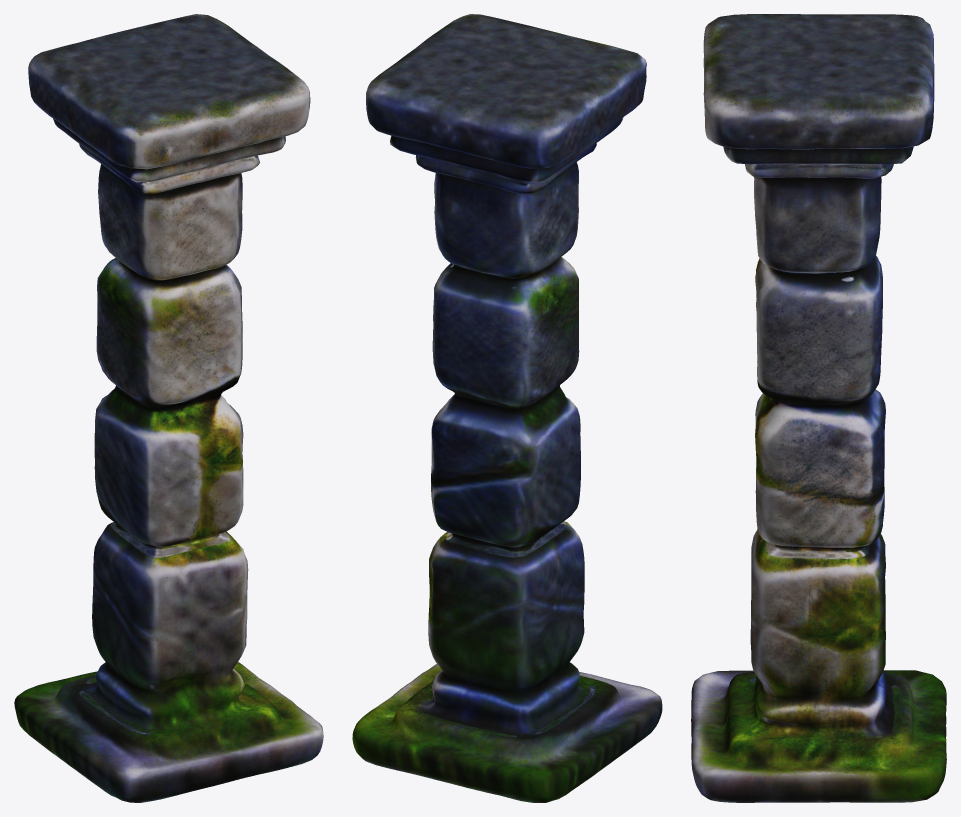
File: 30148d44c764_stylized_low_polygo.fbx
The picture shows the model from 3 angles, left to right: view 1: azimuth 30°, elevation 25°; view 2: azimuth 150°, elevation 25°; view 3: azimuth 270°, elevation 25°; orthographic projection. The views are drawn at different scales.
Visible parts, largest first — view 1: mesh; view 2: mesh; view 3: mesh.
Part boxes in pixels (x1,y1,x2,y2): mesh: (14,14,323,802); mesh: (352,14,662,802); mesh: (691,14,946,802).
Size of the model in its own units: 32.98 by 99.98 by 33.05.
